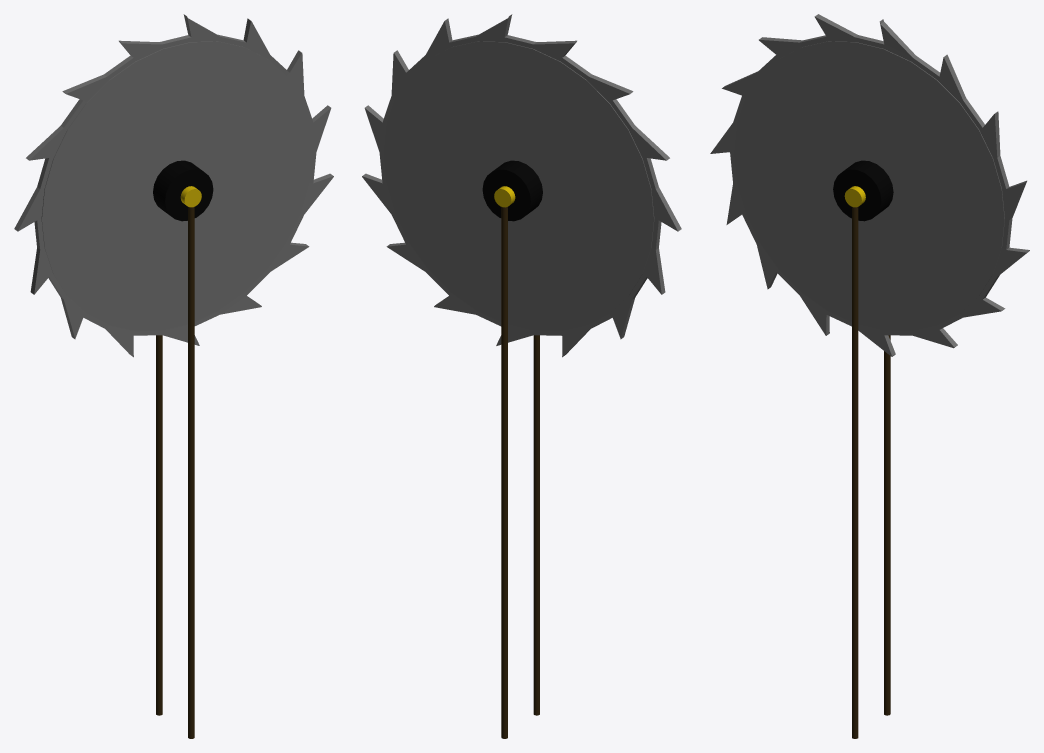
The model's file is saw_swing.fbx.
3 views of the same model, side by side, from view 1: azimuth 30°, elevation 25°; view 2: azimuth 150°, elevation 25°; view 3: azimuth 330°, elevation 25° (orthographic).
Visible parts, largest first — view 1: pCylinder3, pCylinder7, pCylinder6, pCylinder4; view 2: pCylinder3, pCylinder6, pCylinder7, pCylinder4; view 3: pCylinder3, pCylinder7, pCylinder6, pCylinder4.
Part boxes in pixels (x1,y1,x2,y2): pCylinder3: [14, 14, 333, 357]; pCylinder7: [188, 207, 194, 738]; pCylinder6: [156, 335, 162, 715]; pCylinder4: [153, 160, 213, 221]; pCylinder3: [362, 14, 681, 357]; pCylinder6: [501, 207, 507, 738]; pCylinder7: [533, 335, 539, 715]; pCylinder4: [482, 160, 542, 221]; pCylinder3: [710, 14, 1029, 356]; pCylinder7: [852, 207, 858, 738]; pCylinder6: [884, 335, 890, 715]; pCylinder4: [833, 160, 893, 221].
Size of the model in its own units: 5.08 by 10.86 by 0.9981.
